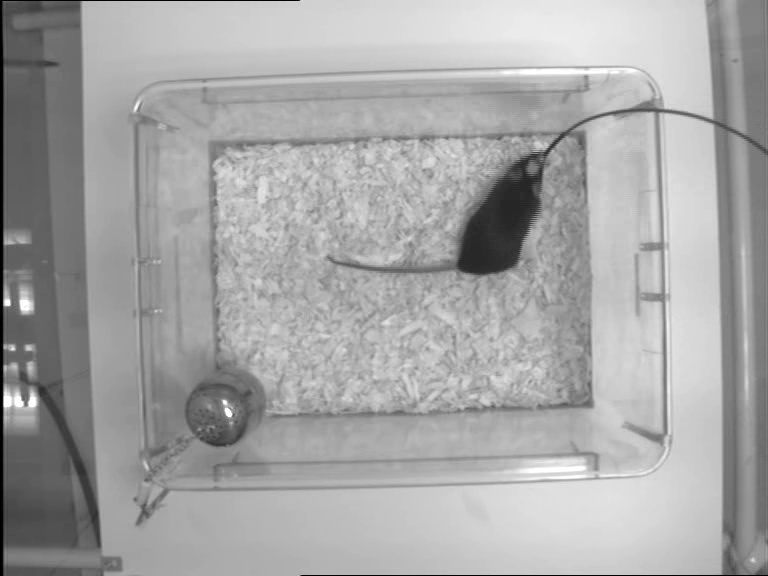mice: (321, 148, 554, 279)
